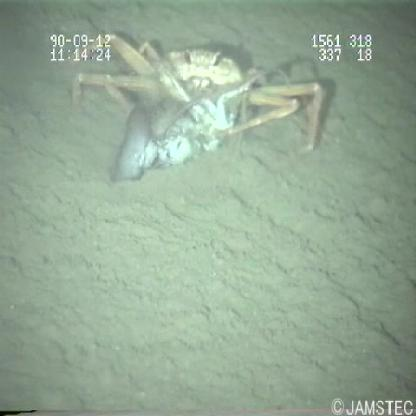Bio: (67, 30, 328, 183)
